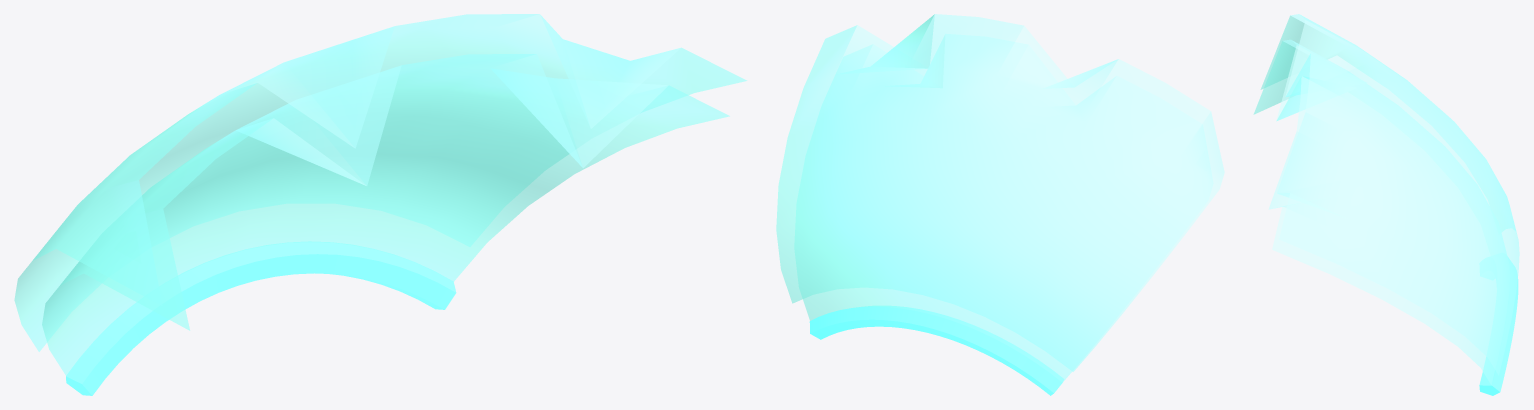
File: res_bell_glass.glb
The picture shows the model from 3 angles, left to right: view 1: azimuth 30°, elevation 25°; view 2: azimuth 150°, elevation 25°; view 3: azimuth 270°, elevation 25°; orthographic projection. The views are drawn at different scales.
Parts seen in each view (by area): view 1: res_bell_glass; view 2: res_bell_glass; view 3: res_bell_glass.
Part boxes in pixels (x1,y1,x2,y2): res_bell_glass: [14, 14, 746, 395]; res_bell_glass: [776, 14, 1224, 395]; res_bell_glass: [1253, 14, 1519, 395].
Size of the model in its own units: 0.1493 by 0.0937 by 0.0792.
